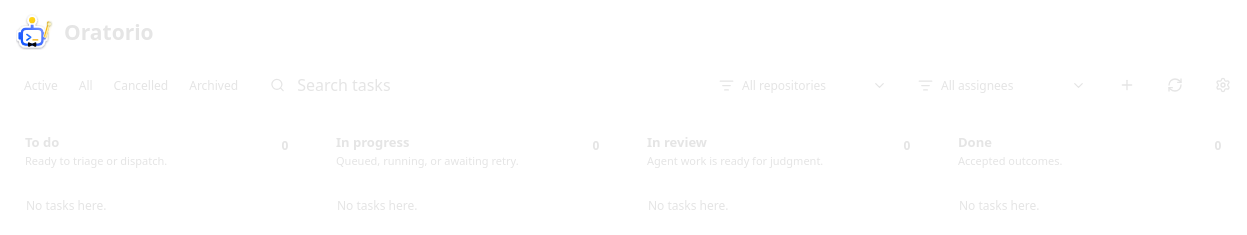
Test case: BoardView › shows deduplicated compact source project options in the repository filter
The width and height of the screenshot is (1247, 235).
Click the button with aria-label "Repository filter" at (803,85), box [708,64,898,106]
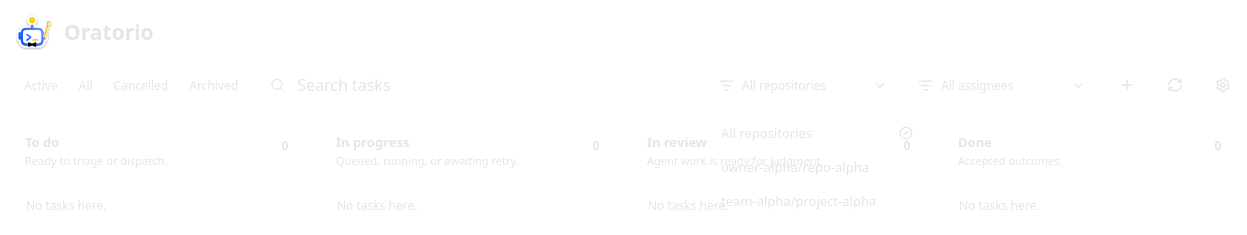
Expected: the number of options "owner-alpha/repo-alpha" is 1, [712,150,924,184]
Expected: the option "team-alpha/project-alpha" is shown, [712,184,924,218]
